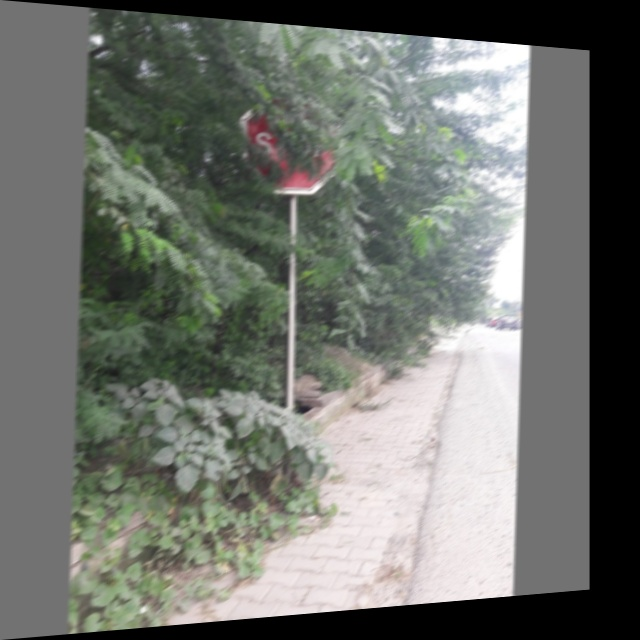Stop: (237, 95, 335, 197)
